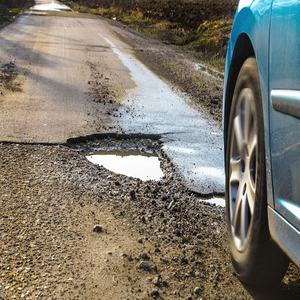pothole: (80, 136, 175, 192)
